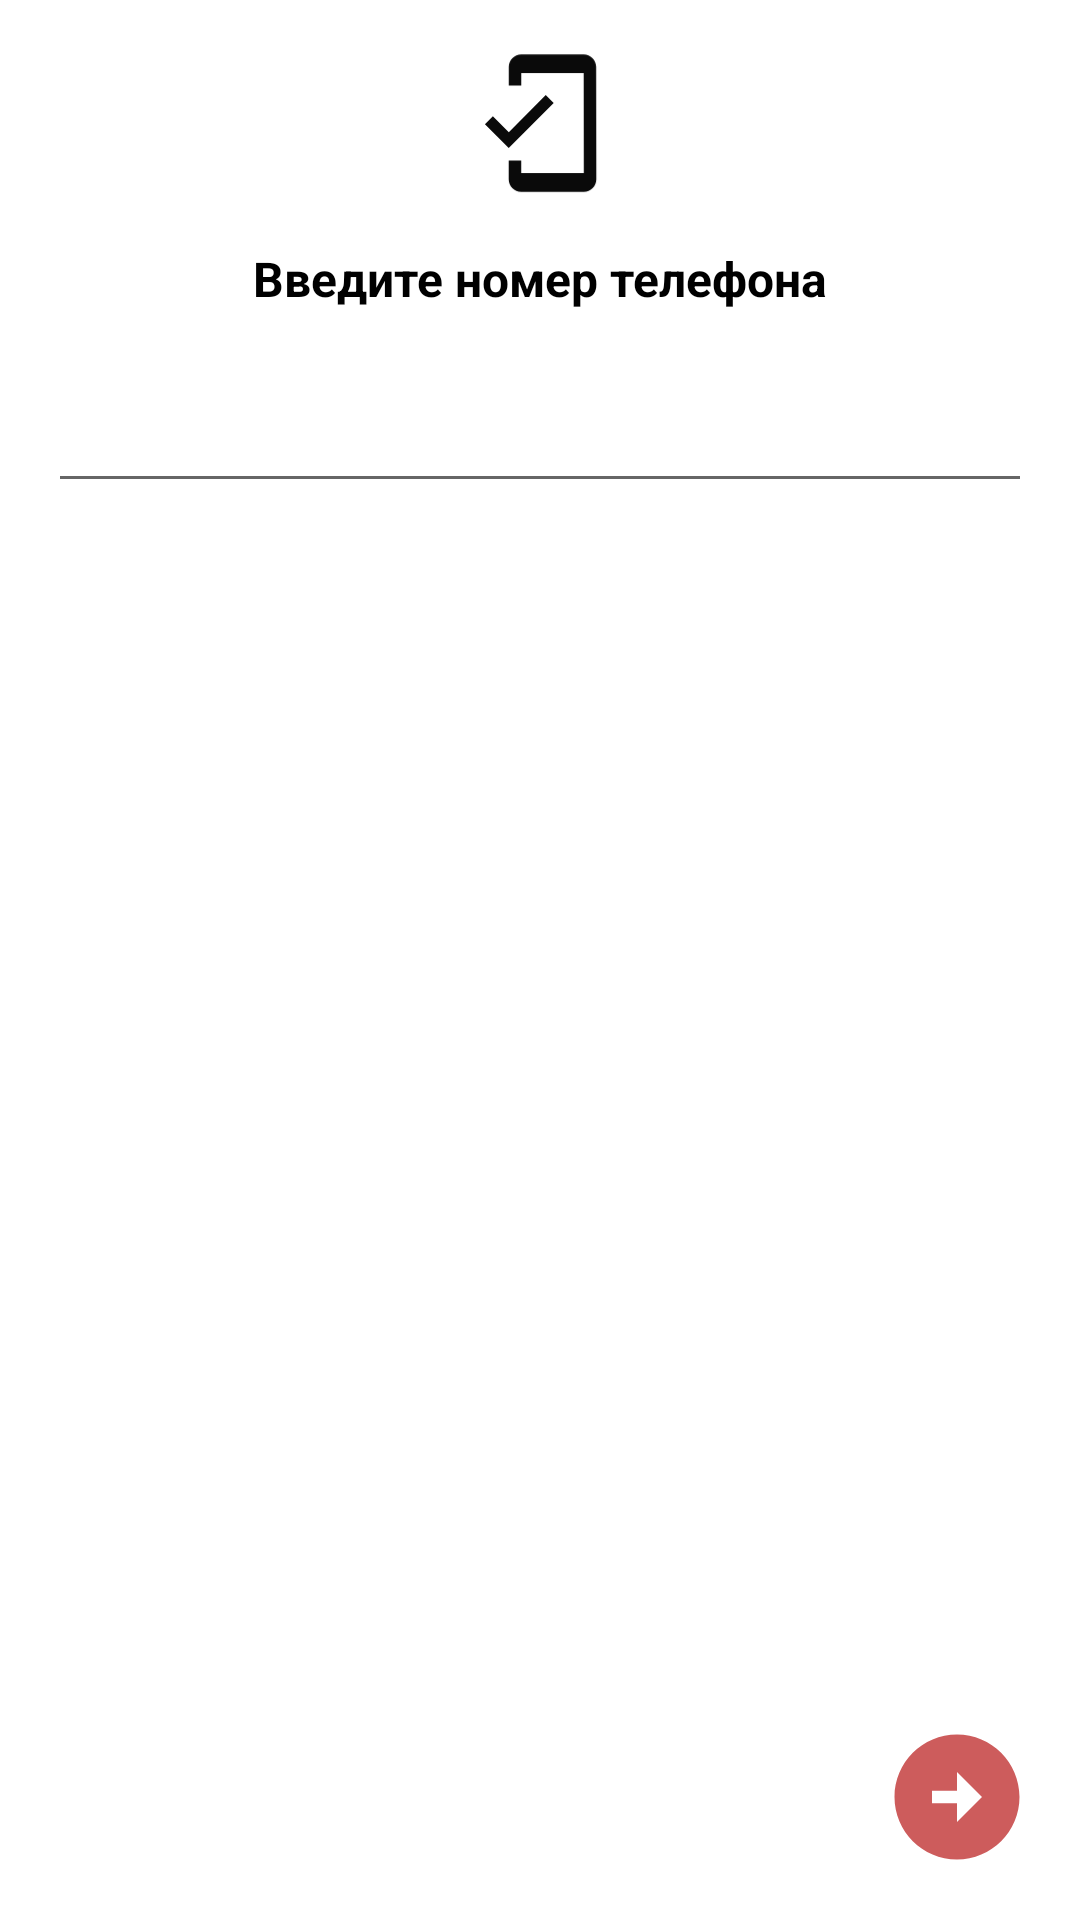

Screen size 1080px×1920px. Icon name, then its box in pixels as [x1, y1, x2, y2]:
arrow circle right: [894, 1734, 1020, 1860]
